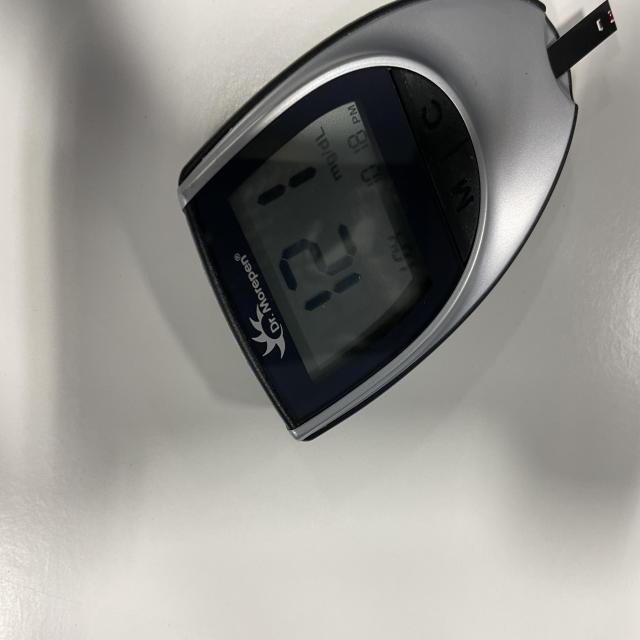gluco: (176, 0, 618, 444)
